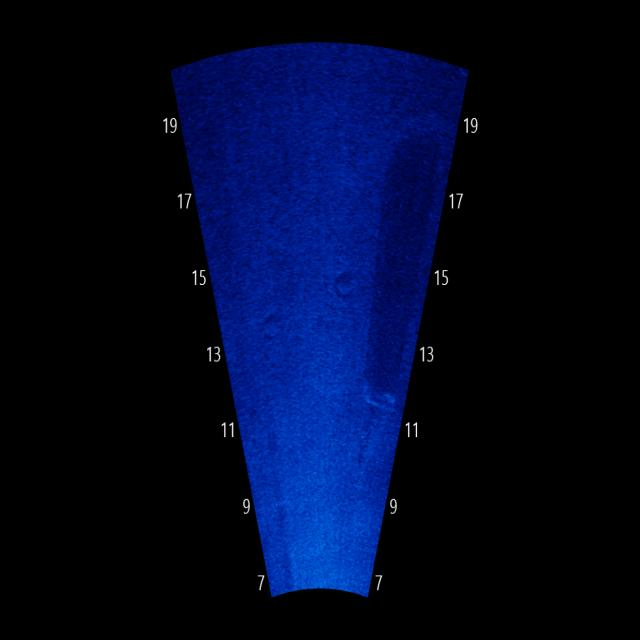triangle: (350, 377, 399, 495)
